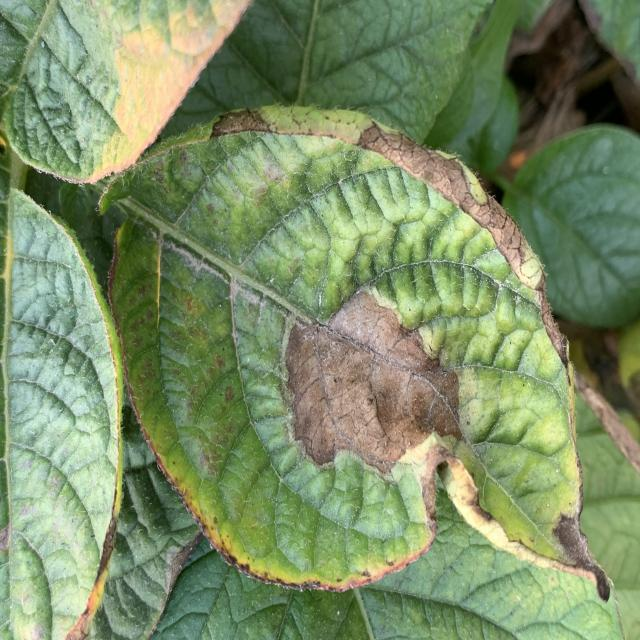lateblight: (315, 120, 569, 367), (285, 293, 462, 472), (552, 508, 610, 602), (212, 108, 284, 137)
